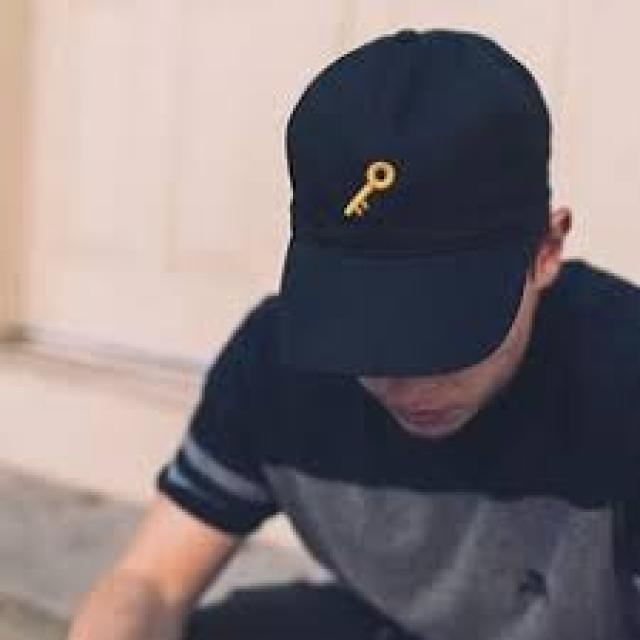cap: (279, 28, 583, 438)
